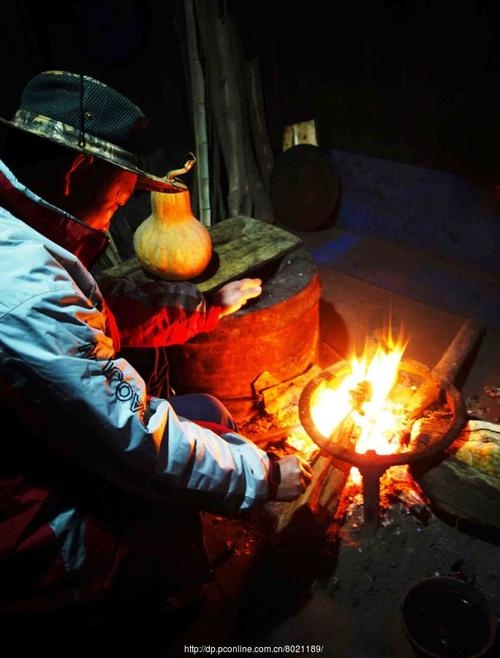fire: (297, 328, 421, 453), (377, 460, 430, 513)
